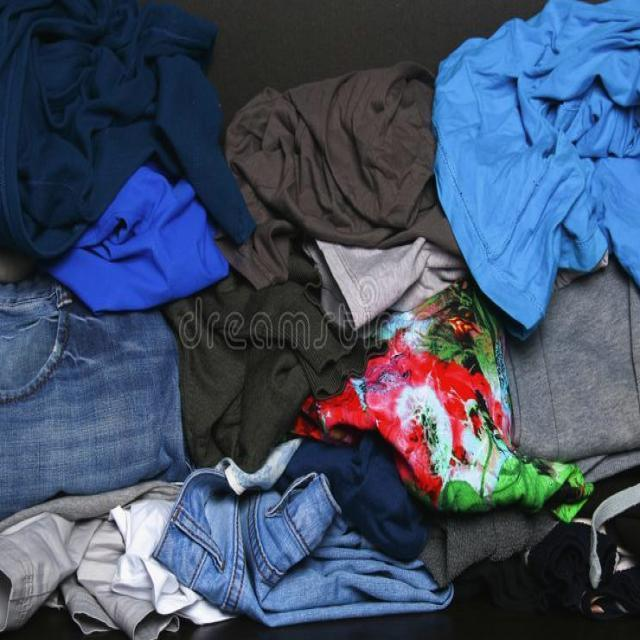clothes: (1, 15, 426, 600)
